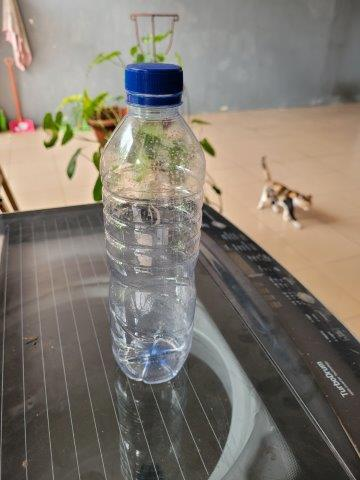botolplastik: (99, 64, 207, 384)
